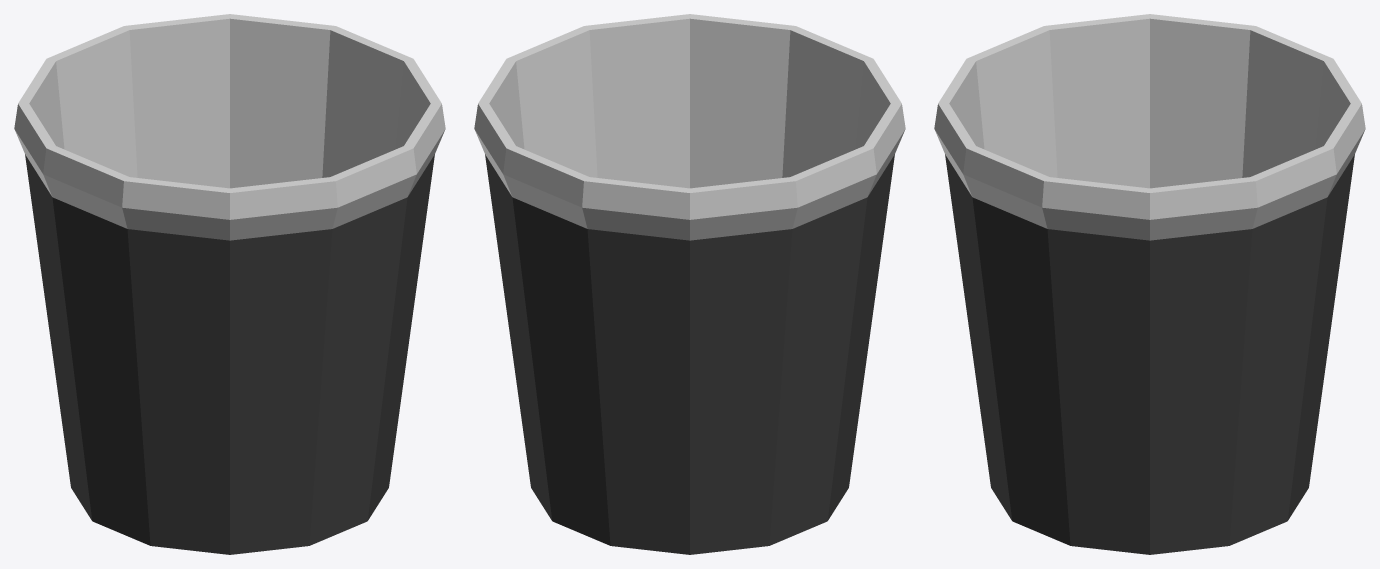
File: Dustbin.fbx
3 views of the same model, side by side, from view 1: azimuth 30°, elevation 25°; view 2: azimuth 150°, elevation 25°; view 3: azimuth 270°, elevation 25° (orthographic).
Visible parts, largest first — view 1: Dustbin.001; view 2: Dustbin.001; view 3: Dustbin.001.
Part boxes in pixels (x1,y1,x2,y2): Dustbin.001: [14, 14, 445, 554]; Dustbin.001: [474, 14, 905, 554]; Dustbin.001: [934, 14, 1365, 554].
Size of the model in its own units: 107 by 105 by 107.
1 material, 1 textured.
